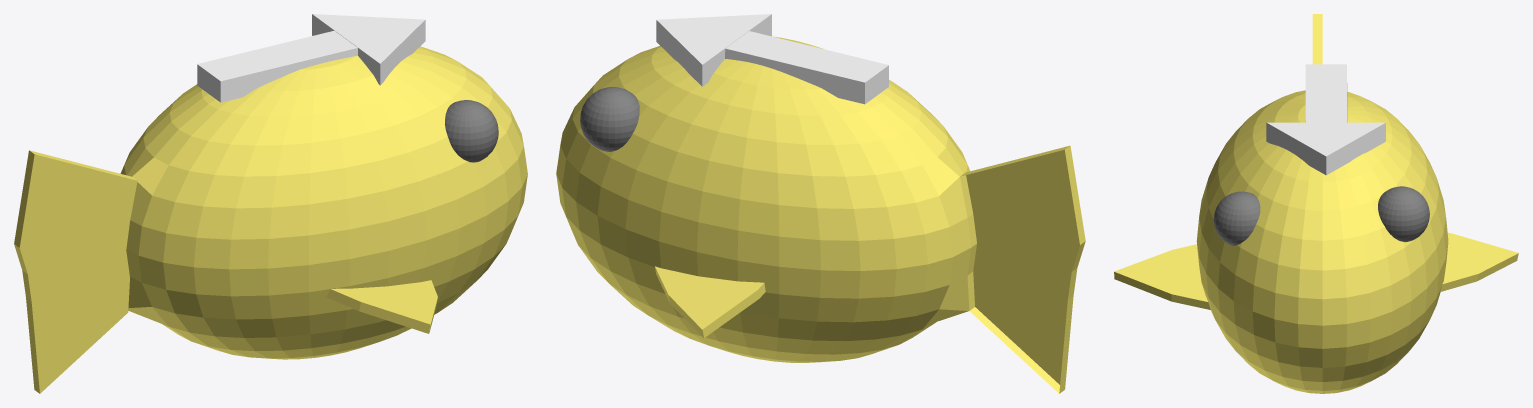
Rendered from SmallFishYellow.fbx.
The picture shows the model from 3 angles, left to right: view 1: azimuth 30°, elevation 25°; view 2: azimuth 150°, elevation 25°; view 3: azimuth 270°, elevation 25°; orthographic projection. The views are drawn at different scales.
Parts seen in each view (by area): view 1: Сфера.003; view 2: Сфера.003; view 3: Сфера.003.
Part boxes in pixels (x1=…): Сфера.003: x1=14, y1=14, x2=527, y2=393; Сфера.003: x1=556, y1=14, x2=1085, y2=393; Сфера.003: x1=1114, y1=14, x2=1518, y2=393.
Bounding box in the file's own units: 338 × 190 × 270.
